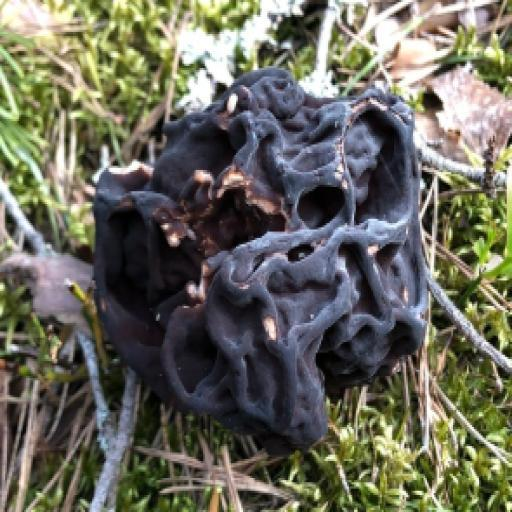mushroom: (83, 60, 435, 463)
